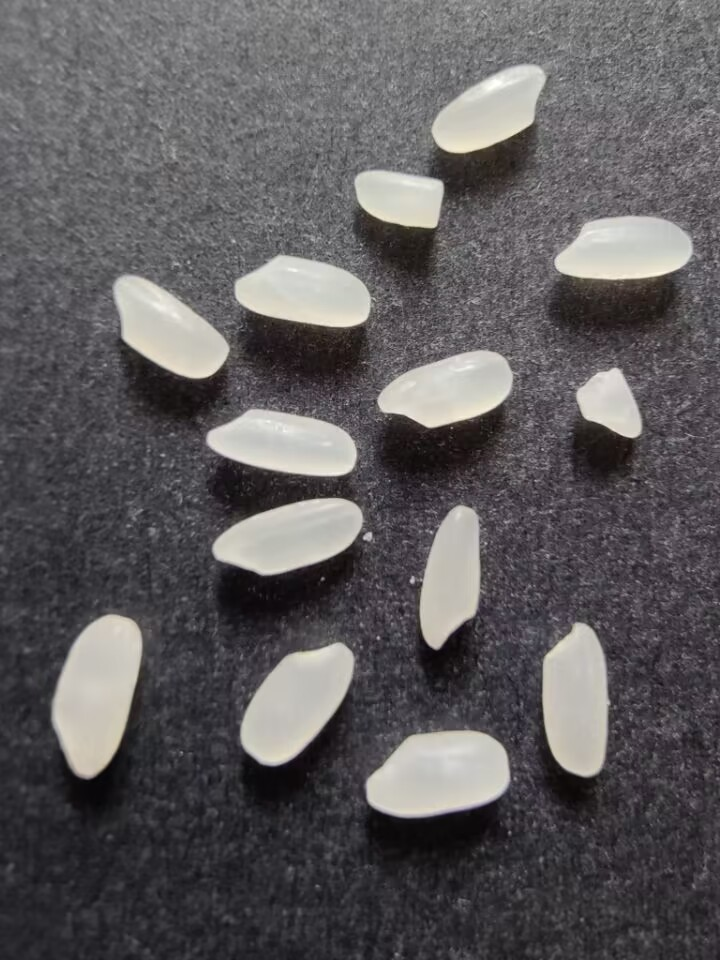broken: (349, 166, 449, 230), (571, 365, 645, 441)
rice: (45, 610, 147, 780), (239, 639, 357, 769), (103, 273, 232, 384), (364, 729, 515, 822), (208, 493, 366, 579), (534, 618, 613, 778), (200, 405, 361, 481), (372, 346, 517, 428), (428, 60, 546, 157), (230, 253, 374, 331), (419, 499, 484, 655), (551, 216, 693, 282)
